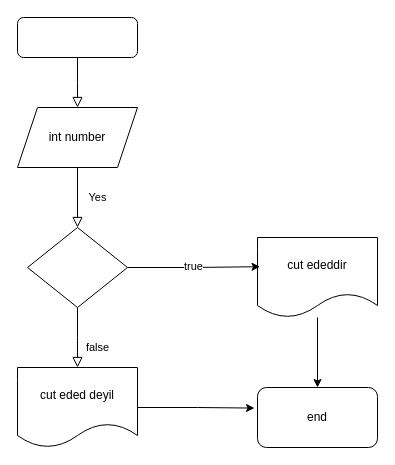
Some shapes in this 395 by 465 pixel diagram are drawn without their labels. The box of each missing label's shape, as (x1, y1, x2, y2) in pixels:
number%2==0: (26, 226, 128, 308)
start: (16, 16, 138, 58)
